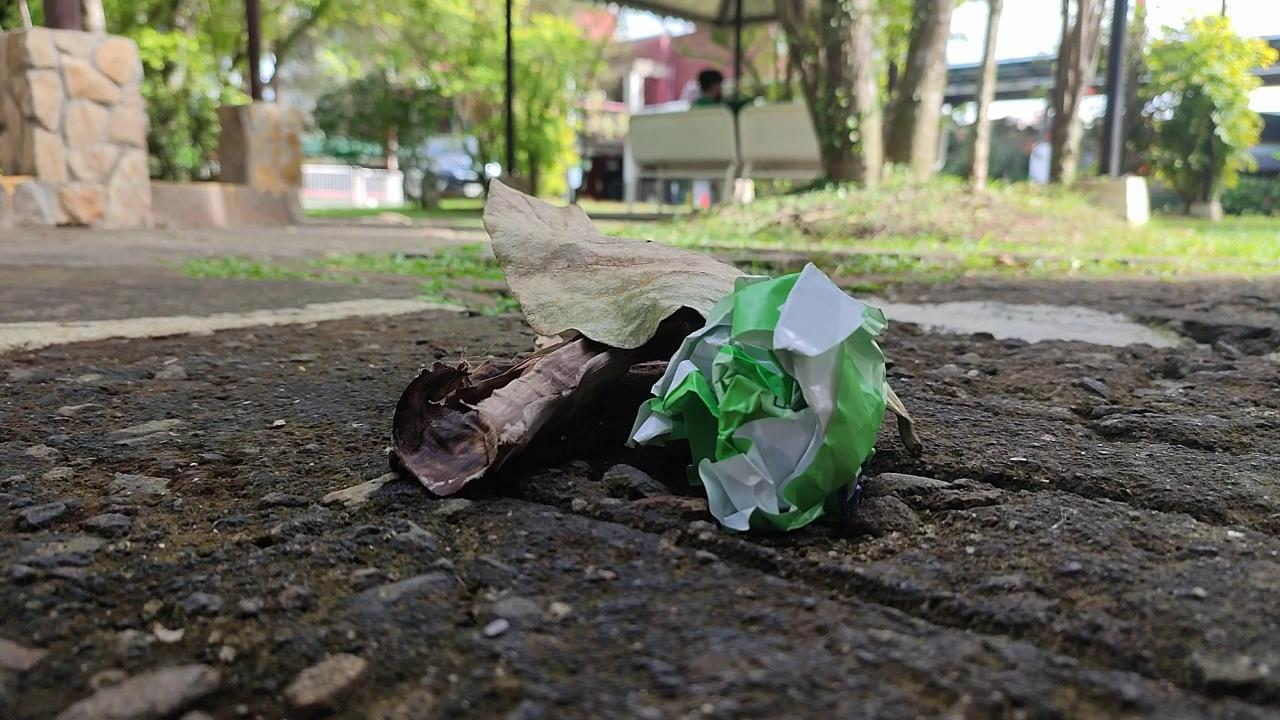Paper: (612, 237, 909, 545)
